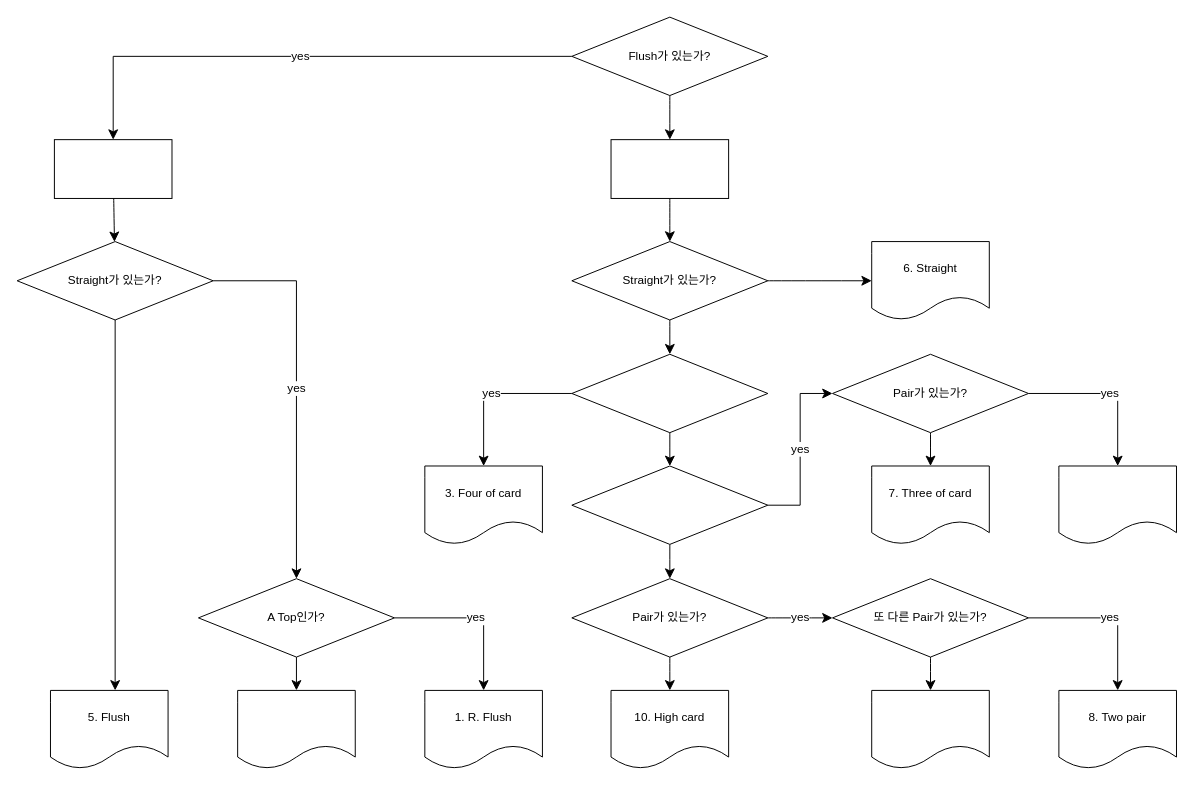
This 1194x786 diagram has some shape labels left out. The box of each missing label's shape, as (x1, y1, x2, y2) in pixels:
2. S. Flush: (237, 689, 355, 769)
4. Full house: (1058, 465, 1176, 544)
9. One pair: (871, 689, 989, 769)
Flush에 맞춰서 Rank를 완성한다.: (53, 139, 172, 198)
Four Card 인가?: (571, 353, 768, 433)
Set이 있는가?: (571, 465, 768, 544)
value를 내림차순으로 정렬한다: (610, 139, 729, 198)
